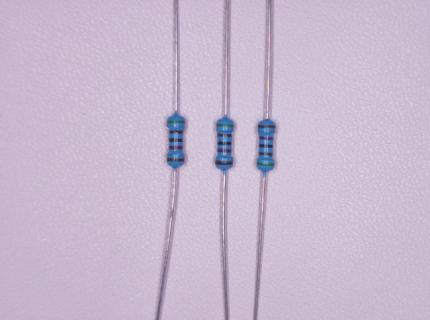Black band: (169, 138, 183, 142), (259, 144, 273, 148), (218, 142, 231, 145)
Brown band: (215, 161, 233, 166), (167, 158, 184, 162), (169, 130, 183, 134), (218, 133, 232, 137), (259, 152, 273, 156), (258, 125, 275, 128)
Green band: (257, 162, 274, 166), (167, 120, 185, 123), (217, 124, 233, 127)
Red band: (169, 146, 183, 149), (259, 137, 273, 140), (218, 149, 231, 152)
